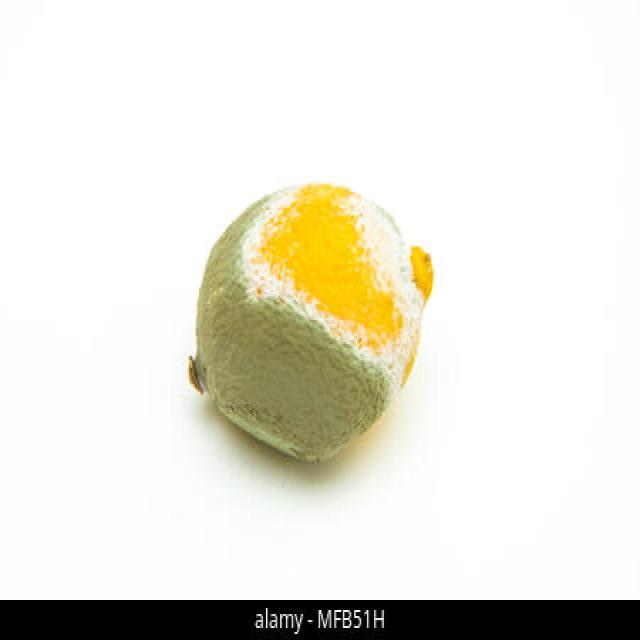Rotten: (189, 180, 434, 462)
